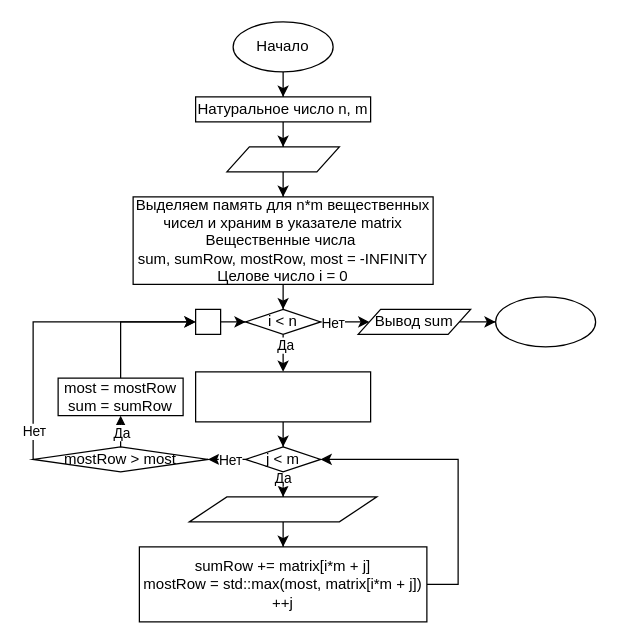
This 618x644 diagram has some shape labels left out. The shapes that lost their labels are listed below. From the top down, each one's centre as x and y in pixels, then its label:
At (282,159): "Ввод n, m".
At (207,321): "i++".
At (545,321): "Конец".
At (282,396): "sumRow = 0 mostRow = -INFINITY целое число j = 0".
At (282,509): "Ввод matrix[i*m + j]".
